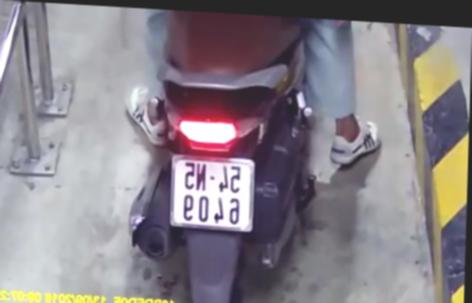License_Plate: (164, 148, 263, 236)
